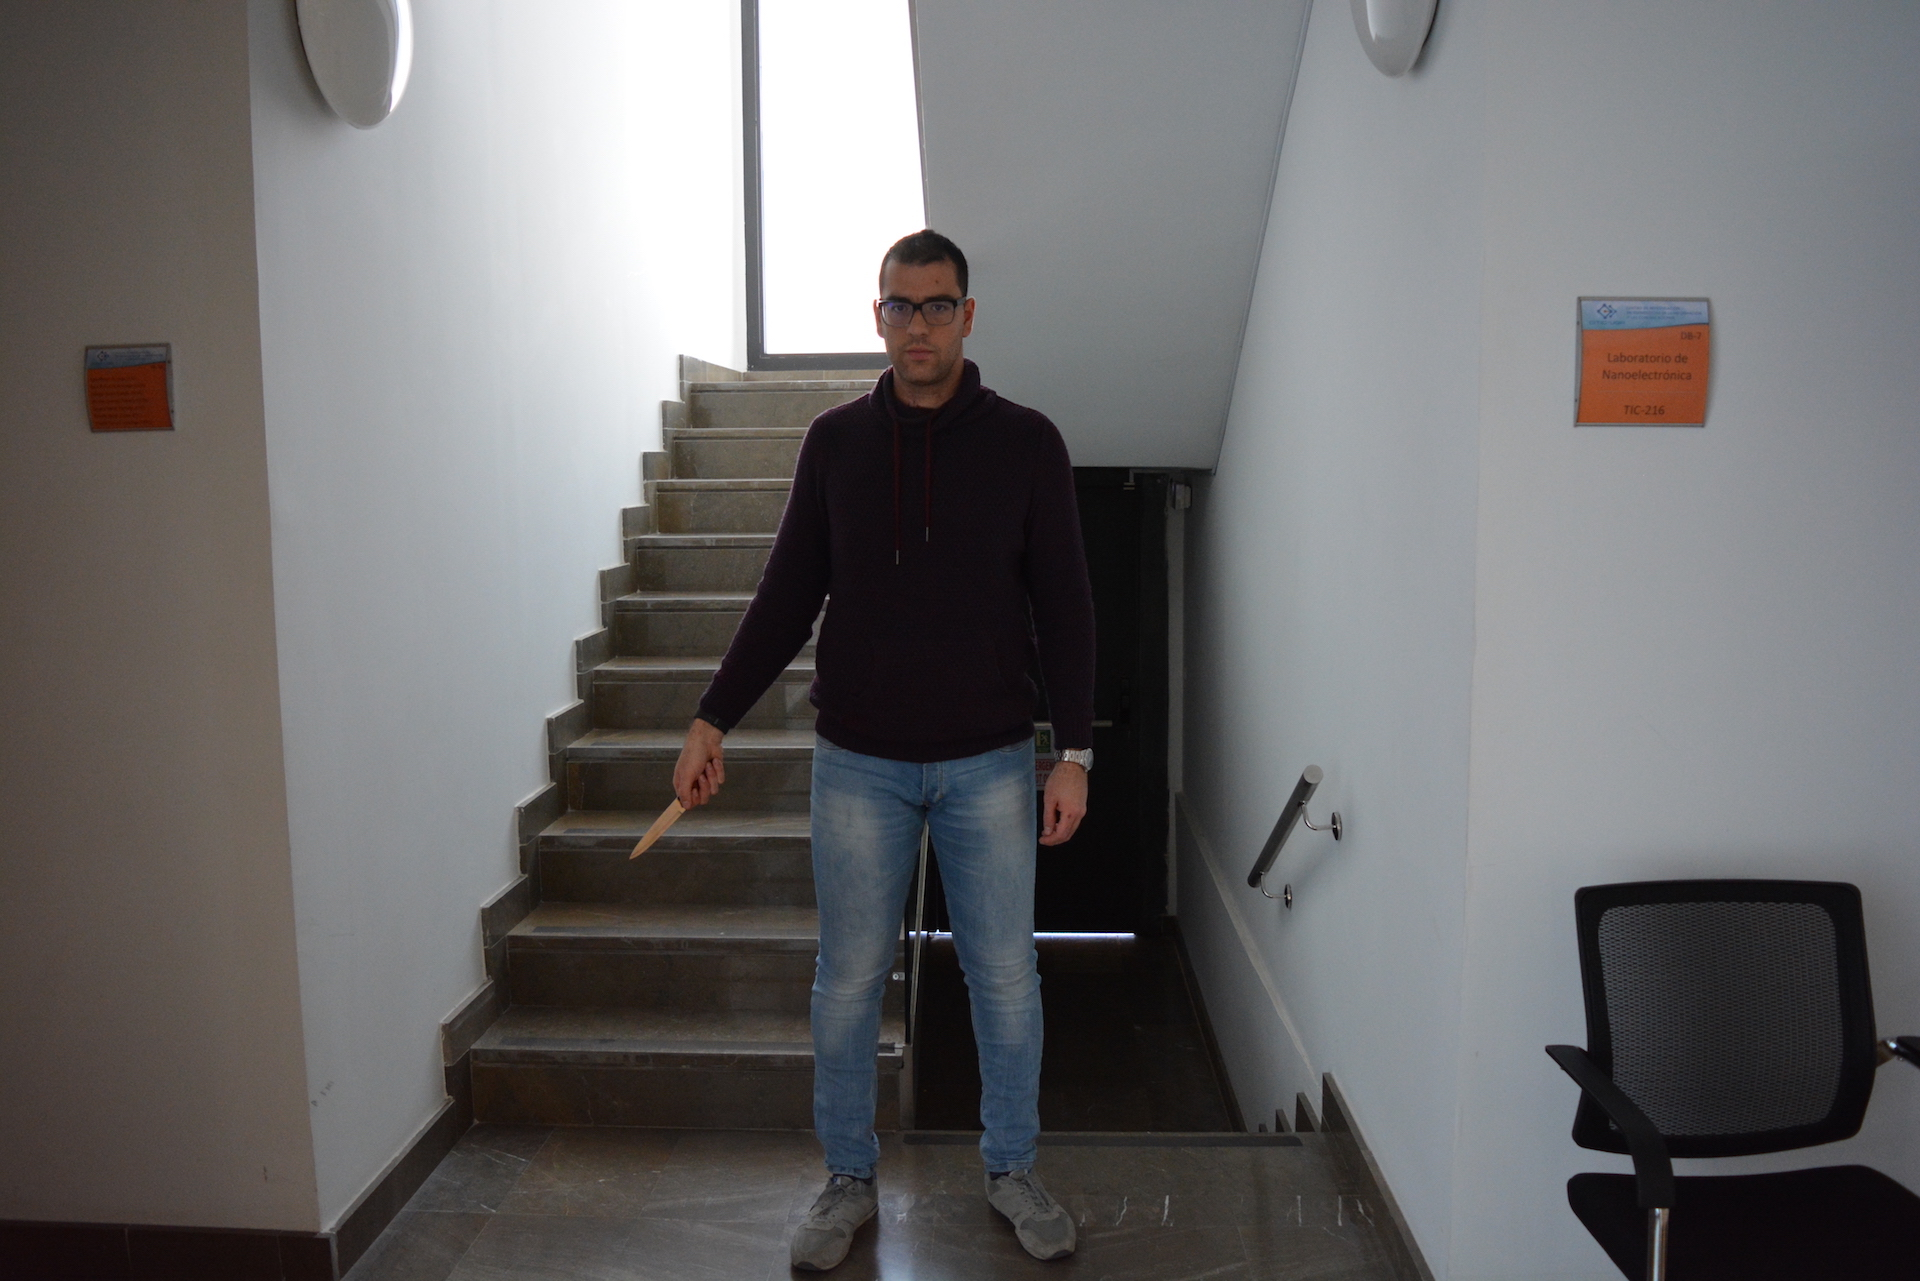knife: (623, 768, 711, 865)
